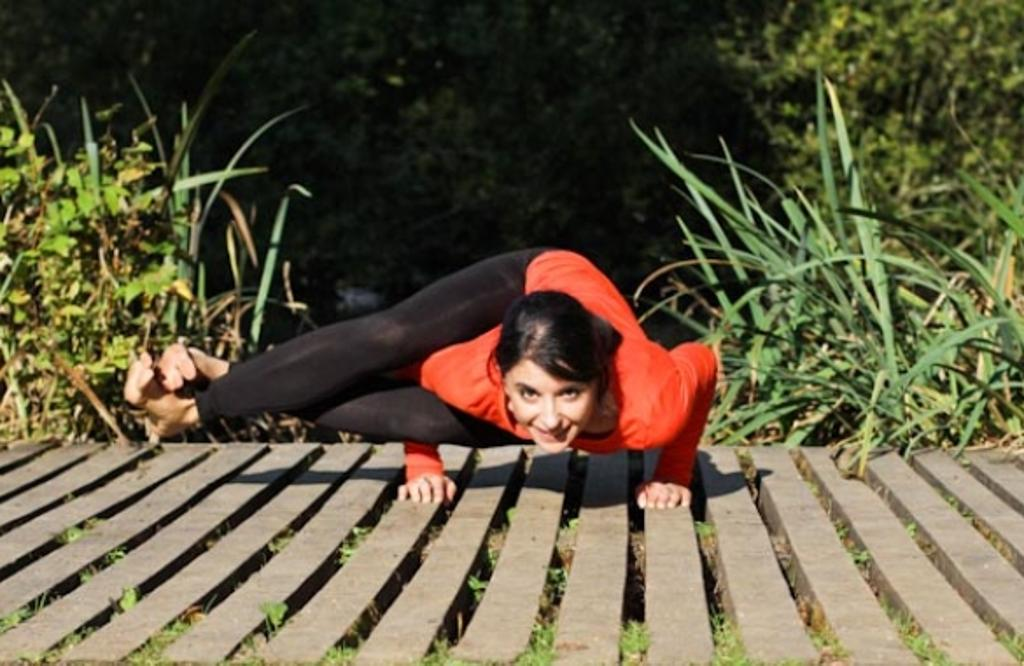face: (515, 363, 591, 451)
